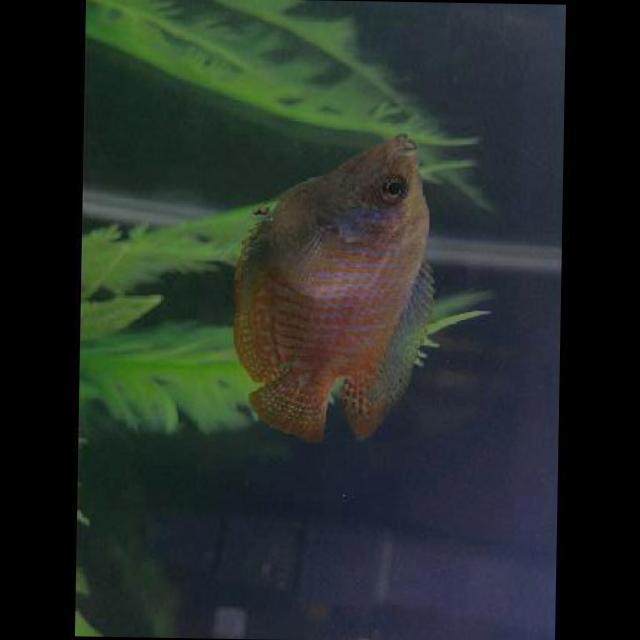Gourami: (236, 142, 442, 448)
